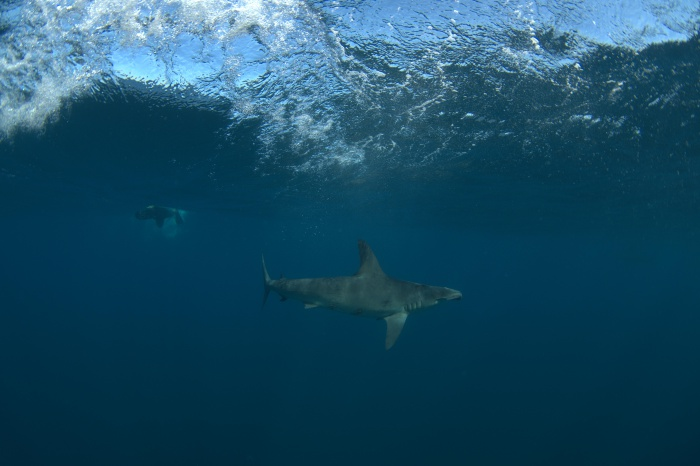Hammer: (248, 230, 470, 365)
